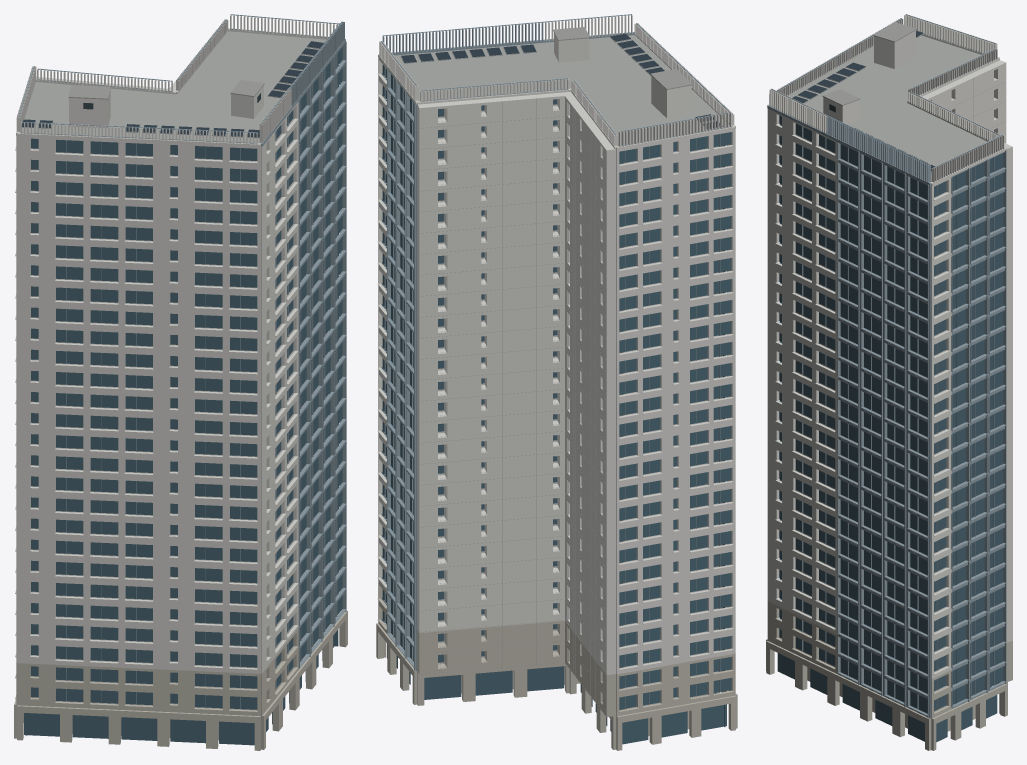
Rendered from bespoke-maple-xi-102.glb.
3 renders of one model, left to right at view 1: azimuth 30°, elevation 25°; view 2: azimuth 150°, elevation 25°; view 3: azimuth 270°, elevation 25°, orthographic. The views are drawn at different scales.
Parts seen in each view (by area): view 1: Maple102_e5_outer_glass, Maple102_e5_outer_piers001, Maple102_e5_outer_sill001, Maple102_numbered_plan_roof, Maple102_e5_outer_head001, Maple102_e4_dark_glass, Maple102_e5_outer_silllip001, Maple102_e4_dark_projected_metal_rib, Maple102_e5_end_pier001, Maple102_numbered_plan_inset_body, Maple102_e4_dark_reveal, Maple102_e4_dark_silllip (+36 smaller); view 2: Maple102_e2_core_piers001, Maple102_e0_end_glass, Maple102_e1_core_piers001, Maple102_e0_end_piers001, Maple102_numbered_plan_roof, Maple102_e2_end_pier001, Maple102_e0_end_sill001, Maple102_e0_end_head001, Maple102_e3_dark_reveal, Maple102_e2_core_sill001, Maple102_e0_end_silllip001, Maple102_e0_end_reveal001 (+51 smaller); view 3: Maple102_e4_dark_glass, Maple102_e3_dark_glass, Maple102_e4_outer_glass, Maple102_numbered_plan_roof, Maple102_e4_outer_piers001, Maple102_e4_dark_silllip, Maple102_e4_dark_reveal, Maple102_e4_dark_projected_metal_rib, Maple102_e3_dark_projected_metal_rib, Maple102_e4_end_pier001, Maple102_e4_outer_sill001, Maple102_e4_dark_head (+45 smaller).
Part boxes in pixels (x1,y1,x2,y2): Maple102_e5_outer_glass: (31, 138, 257, 709); Maple102_e5_outer_piers001: (39, 137, 260, 673); Maple102_e5_outer_sill001: (30, 151, 257, 673); Maple102_numbered_plan_roof: (19, 31, 326, 143); Maple102_e5_outer_head001: (30, 137, 257, 655); Maple102_e4_dark_glass: (299, 47, 342, 661); Maple102_e5_outer_silllip001: (30, 149, 257, 669); Maple102_e4_dark_projected_metal_rib: (307, 41, 346, 656); Maple102_e5_end_pier001: (17, 136, 30, 663); Maple102_numbered_plan_inset_body: (31, 77, 328, 709); Maple102_e4_dark_reveal: (298, 45, 343, 667); Maple102_e4_dark_silllip: (299, 60, 346, 667); Maple102_e2_core_piers001: (445, 92, 572, 630); Maple102_e0_end_glass: (619, 132, 731, 709); Maple102_e1_core_piers001: (570, 101, 616, 675); Maple102_e0_end_piers001: (638, 129, 734, 670); Maple102_numbered_plan_roof: (394, 35, 729, 146); Maple102_e2_end_pier001: (417, 103, 437, 632); Maple102_e0_end_sill001: (619, 146, 732, 673); Maple102_e0_end_head001: (619, 130, 732, 655); Maple102_e3_dark_reveal: (387, 70, 409, 657); Maple102_e2_core_sill001: (438, 106, 559, 631); Maple102_e0_end_silllip001: (619, 145, 733, 670); Maple102_e0_end_reveal001: (619, 131, 732, 668); Maple102_e4_dark_glass: (840, 144, 927, 713); Maple102_e3_dark_glass: (952, 153, 1003, 704); Maple102_e4_outer_glass: (779, 115, 835, 666); Maple102_numbered_plan_roof: (788, 35, 987, 182); Maple102_e4_outer_piers001: (782, 115, 838, 634); Maple102_e4_dark_silllip: (837, 158, 927, 716); Maple102_e4_dark_reveal: (837, 143, 910, 705); Maple102_e4_dark_projected_metal_rib: (858, 151, 929, 718); Maple102_e3_dark_projected_metal_rib: (967, 150, 1006, 701); Maple102_e4_end_pier001: (767, 108, 776, 604); Maple102_e4_outer_sill001: (776, 126, 835, 633); Maple102_e4_dark_head: (838, 142, 927, 698).
Size of the model in its own units: 51.29 by 89.67 by 33.84.
